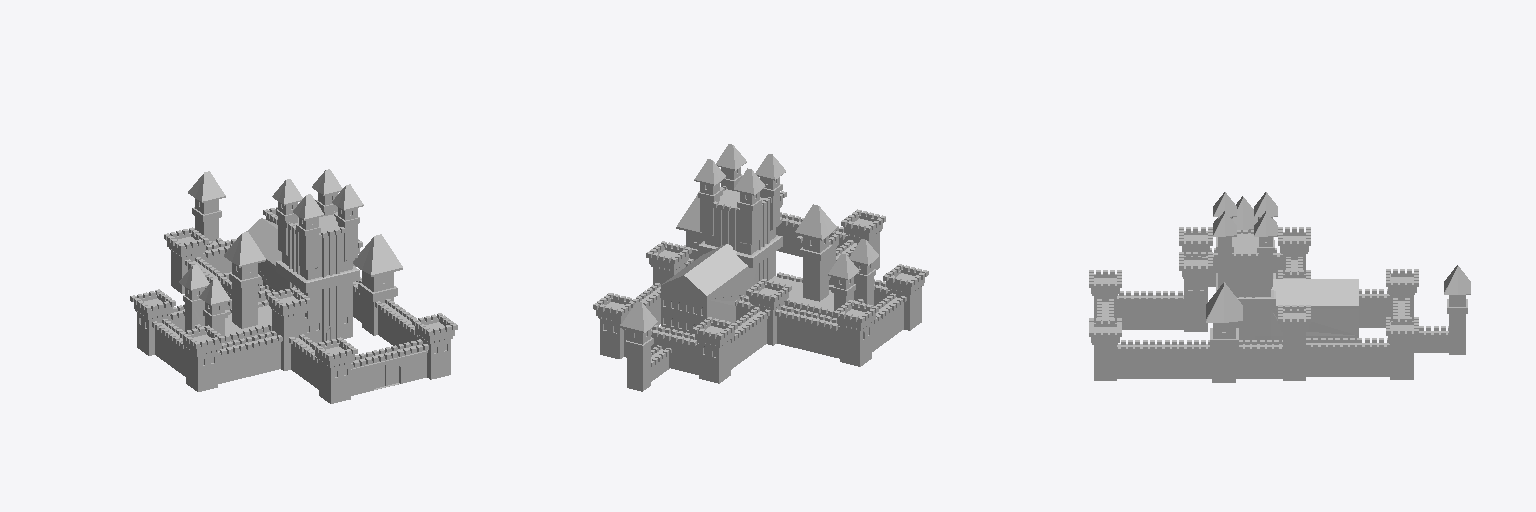
Rendered from Castle.obj.
3 renders of one model, left to right at view 1: azimuth 30°, elevation 25°; view 2: azimuth 150°, elevation 25°; view 3: azimuth 270°, elevation 25°, orthographic.
Visible parts, largest first — view 1: Castle; view 2: Castle; view 3: Castle.
Boxes of the visible parts, <box> form: Castle: <box>130,169,457,403</box>; Castle: <box>593,144,928,391</box>; Castle: <box>1089,192,1470,382</box>.
Size of the model in its own units: 10.14 by 6.66 by 15.26.